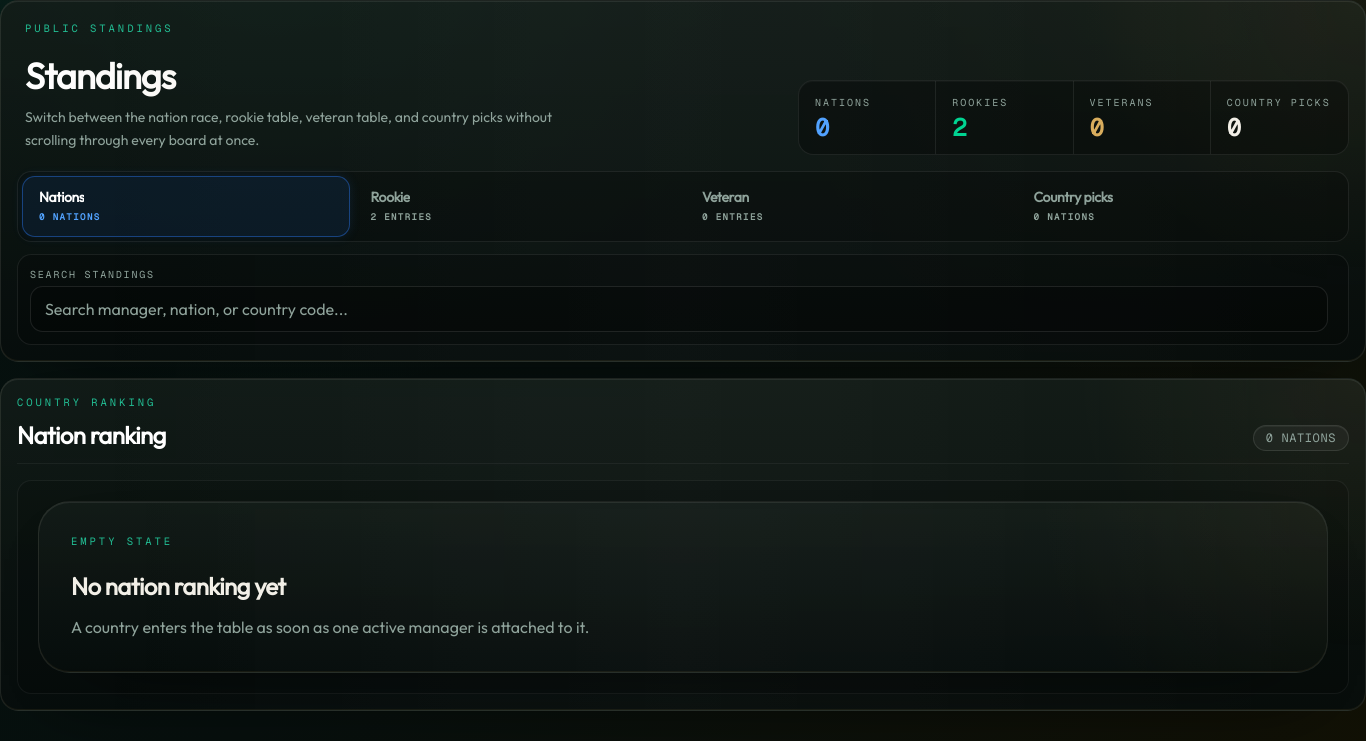
TablesPage partial loading › filters participant rows by manager search
Click the tab "Rookie 2 entries" at (390, 197), box [354, 176, 681, 237]
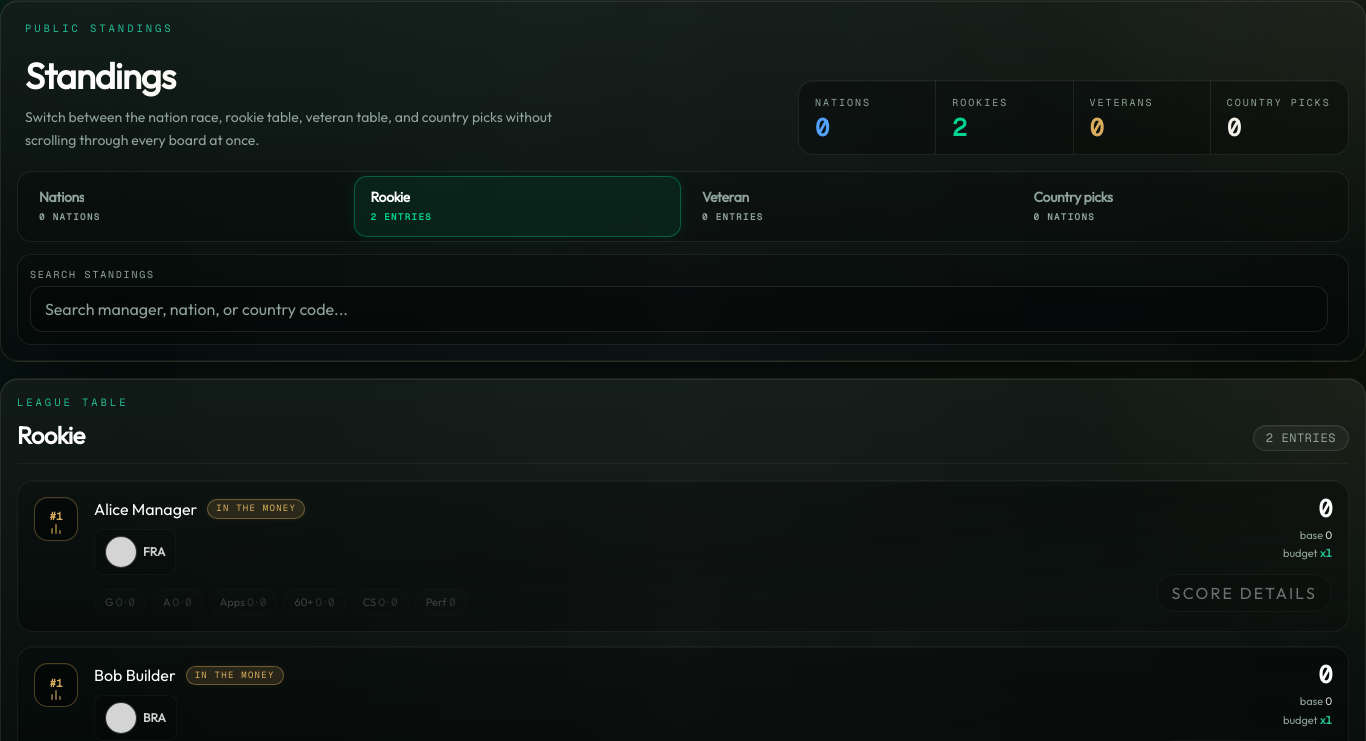
Check: the button "Alice Manager" is shown, box [94, 497, 197, 521]
Check: the button "Bob Builder" is shown, box [94, 664, 176, 688]
Type "alice" into the search field labelled "Search standings" at (679, 309), box [30, 286, 1328, 332]
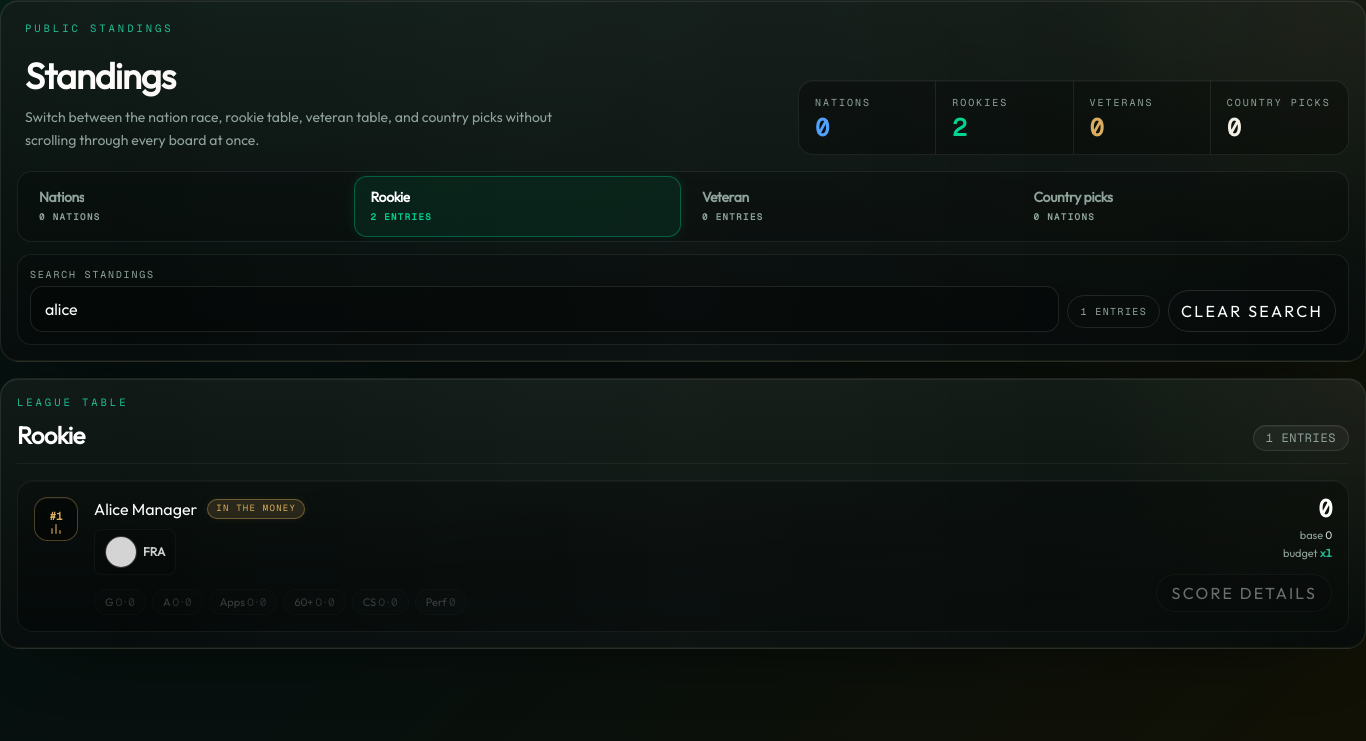
Check: the button "Alice Manager" is shown, box [94, 497, 197, 521]
Check: the button "Bob Builder" is gone
